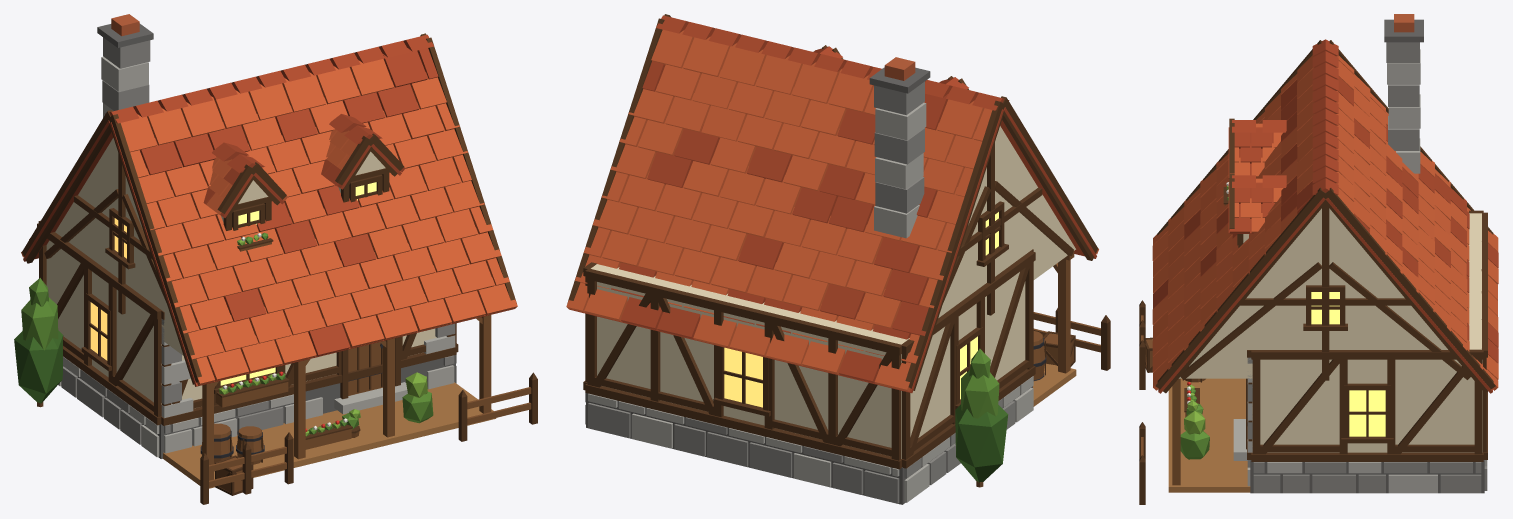
The model's file is Cottage_05_Veranda.fbx.
3 renders of one model, left to right at view 1: azimuth 30°, elevation 25°; view 2: azimuth 150°, elevation 25°; view 3: azimuth 270°, elevation 25°, orthographic. The views are drawn at different scales.
Parts seen in each view (by area): view 1: Cottage_05_Veranda_LOD0; view 2: Cottage_05_Veranda_LOD0; view 3: Cottage_05_Veranda_LOD0.
Boxes of the visible parts, x1=… form: Cottage_05_Veranda_LOD0: x1=14, y1=14, x2=537, y2=504; Cottage_05_Veranda_LOD0: x1=566, y1=14, x2=1110, y2=504; Cottage_05_Veranda_LOD0: x1=1139, y1=14, x2=1498, y2=504.
Size of what is drawn, in the model's own units: 8.02 by 7.57 by 6.87.
